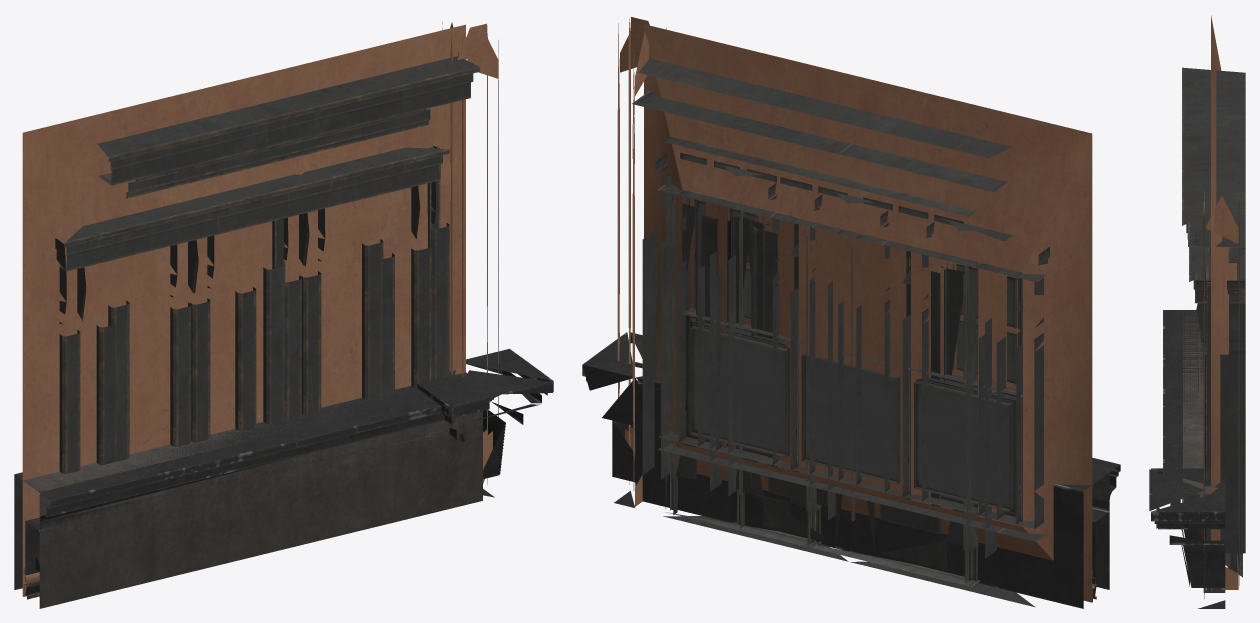
File: apartments-near.gltf
The picture shows the model from 3 angles, left to right: view 1: azimuth 30°, elevation 25°; view 2: azimuth 150°, elevation 25°; view 3: azimuth 270°, elevation 25°; orthographic projection. The views are drawn at different scales.
Visible parts, largest first — view 1: base_standard_01, wall_door_centered_large_01, wall_window_centered_small_02, crown_standard_standard_01, door_centered_large_01, door_window_small_07, window_centered_large_02, wall_window_offset_small_03, window_offset_small_04, window_centered_small_02, window_offset_small_03, wall_window_centered_large_02 (+8 smaller); view 2: wall_window_centered_large_03, wall_window_offset_small_06, wall_window_offset_small_05, door_centered_large_01, wall_window_centered_double_03, wall_window_centered_small_03, door_window_small_07, crown_standard_standard_01, window_offset_small_06, window_offset_small_05, window_centered_large_02, door_window_small_05 (+9 smaller); view 3: door_window_small_07, crown_pier_pedestal_01, door_centered_large_01, crown_standard_standard_01, wall_window_offset_small_05, base_standard_01, wall_pier_corner_01, window_offset_small_03, door_window_small_05, wall_window_offset_small_06, wall_window_centered_large_03, wall_pier_standard_01 (+2 smaller).
Boxes of the visible parts, <box> form: base_standard_01: <box>23,374,482,608</box>; wall_door_centered_large_01: <box>22,29,465,596</box>; wall_window_centered_small_02: <box>22,51,465,550</box>; crown_standard_standard_01: <box>14,372,493,599</box>; door_centered_large_01: <box>97,85,413,461</box>; door_window_small_07: <box>252,56,480,424</box>; window_centered_large_02: <box>96,158,412,464</box>; wall_window_offset_small_03: <box>22,57,465,551</box>; window_offset_small_04: <box>55,201,228,473</box>; window_centered_small_02: <box>170,174,338,446</box>; window_offset_small_03: <box>283,145,449,419</box>; wall_window_centered_large_02: <box>22,57,465,547</box>; wall_window_centered_large_03: <box>644,24,1091,602</box>; wall_window_offset_small_06: <box>646,25,1092,602</box>; wall_window_offset_small_05: <box>644,24,1090,601</box>; door_centered_large_01: <box>707,76,1011,586</box>; wall_window_centered_double_03: <box>647,28,1092,601</box>; wall_window_centered_small_03: <box>645,24,1090,601</box>; door_window_small_07: <box>632,58,854,544</box>; crown_standard_standard_01: <box>635,380,1120,608</box>; window_offset_small_06: <box>904,259,1022,521</box>; window_offset_small_05: <box>680,196,798,467</box>; window_centered_large_02: <box>698,216,1013,532</box>; door_window_small_05: <box>665,170,821,548</box>; door_window_small_07: <box>1182,132,1245,565</box>; crown_pier_pedestal_01: <box>1149,468,1225,608</box>; door_centered_large_01: <box>1182,67,1245,346</box>; crown_standard_standard_01: <box>1163,310,1225,592</box>; wall_window_offset_small_05: <box>1211,16,1236,591</box>; base_standard_01: <box>1183,310,1210,494</box>; wall_pier_corner_01: <box>1203,195,1239,594</box>; window_offset_small_03: <box>1189,247,1245,497</box>; door_window_small_05: <box>1206,265,1239,575</box>; wall_window_offset_small_06: <box>1211,17,1221,198</box>; wall_window_centered_large_03: <box>1211,18,1216,208</box>; wall_pier_standard_01: <box>1203,192,1204,598</box>.
Size of the model in its own units: 3.36 by 3.06 by 0.665.
5 materials, 5 textured.
